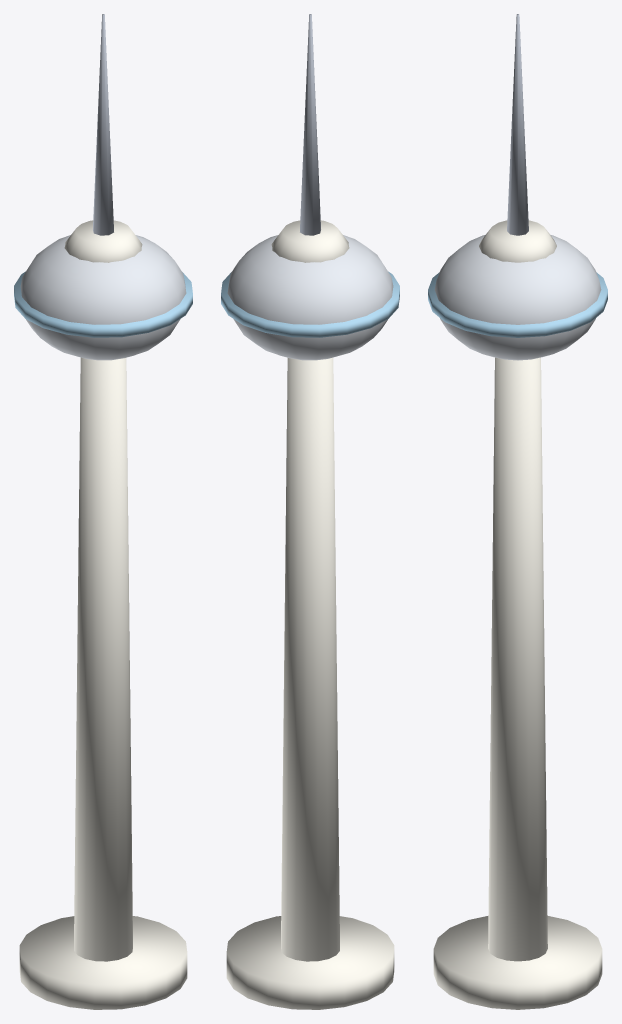
File: Bld_MenaraKL.fbx
3 views of the same model, side by side, from view 1: azimuth 30°, elevation 25°; view 2: azimuth 150°, elevation 25°; view 3: azimuth 270°, elevation 25° (orthographic).
Parts seen in each view (by area): view 1: Bld_MenaraKL; view 2: Bld_MenaraKL; view 3: Bld_MenaraKL.
Boxes of the visible parts, x1,y1,x2,y2 form: Bld_MenaraKL: [14, 14, 192, 1009]; Bld_MenaraKL: [221, 14, 399, 1009]; Bld_MenaraKL: [428, 14, 607, 1009].
Bounding box in the file's own units: 19.2 × 113 × 19.2.
